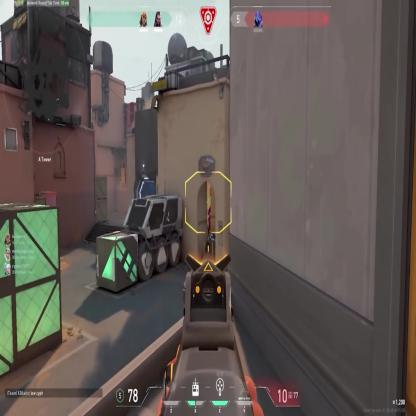enemy: (206, 204, 214, 235)
enemy_head: (209, 206, 212, 215)
